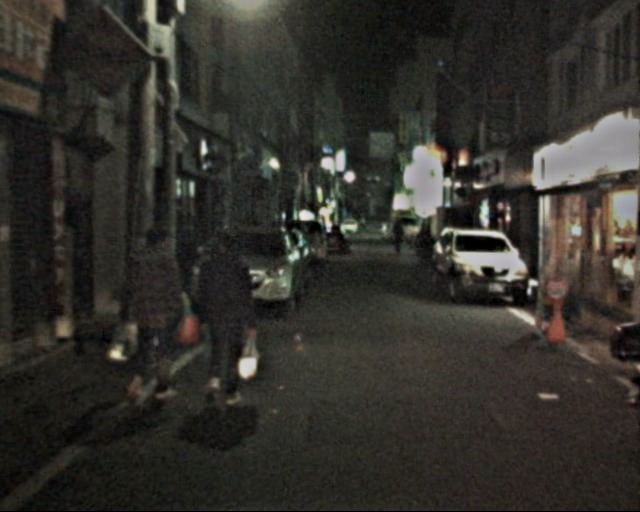person: (117, 223, 193, 401), (191, 233, 263, 408), (392, 221, 411, 258)
